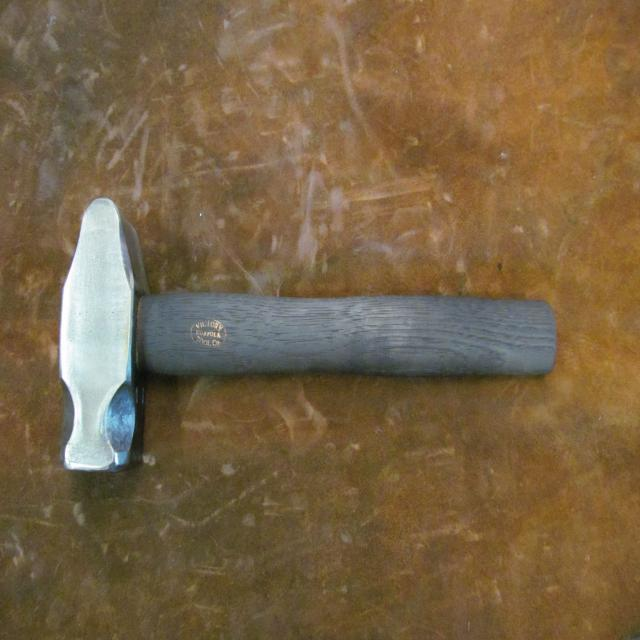hammer: (58, 192, 564, 484)
